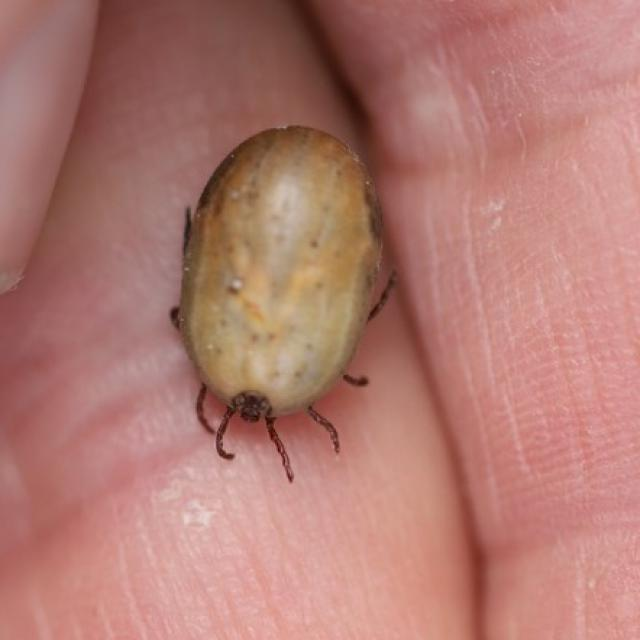Dermacentor Reticulatus-F-Fed: (171, 123, 391, 482)
